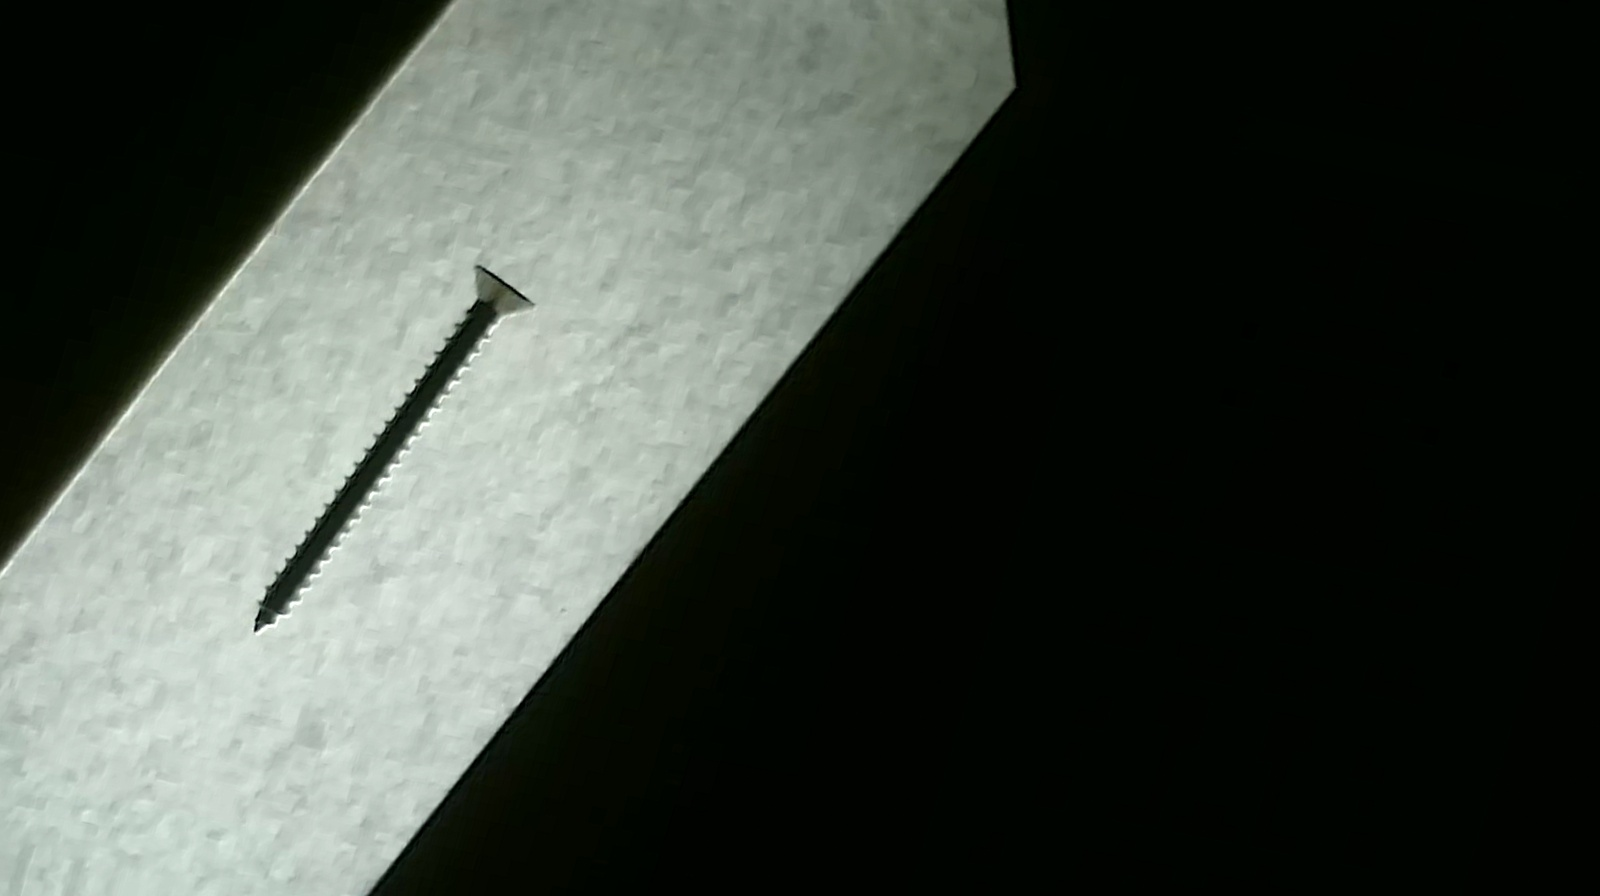S002: (229, 233, 553, 672)
